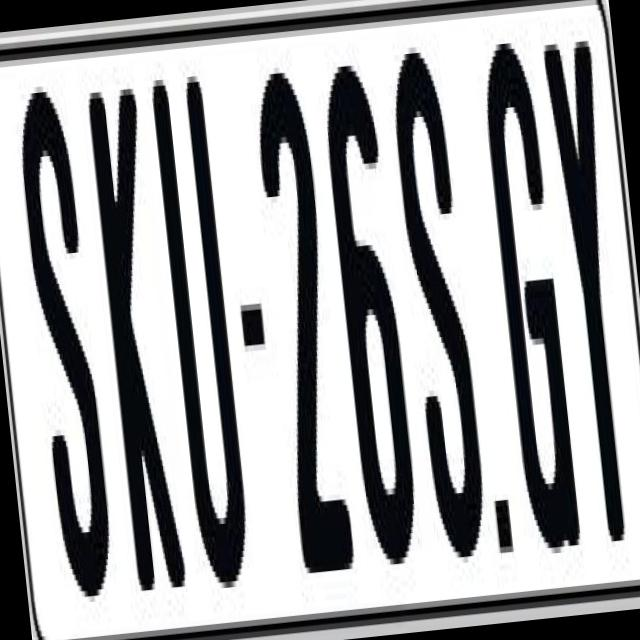2: (246, 70, 362, 609)
6: (314, 64, 420, 572)
G: (476, 35, 580, 555)
K: (82, 82, 185, 620)
S: (12, 83, 118, 598), (383, 33, 487, 542)
U: (145, 64, 255, 578)
Y: (541, 40, 639, 543)
